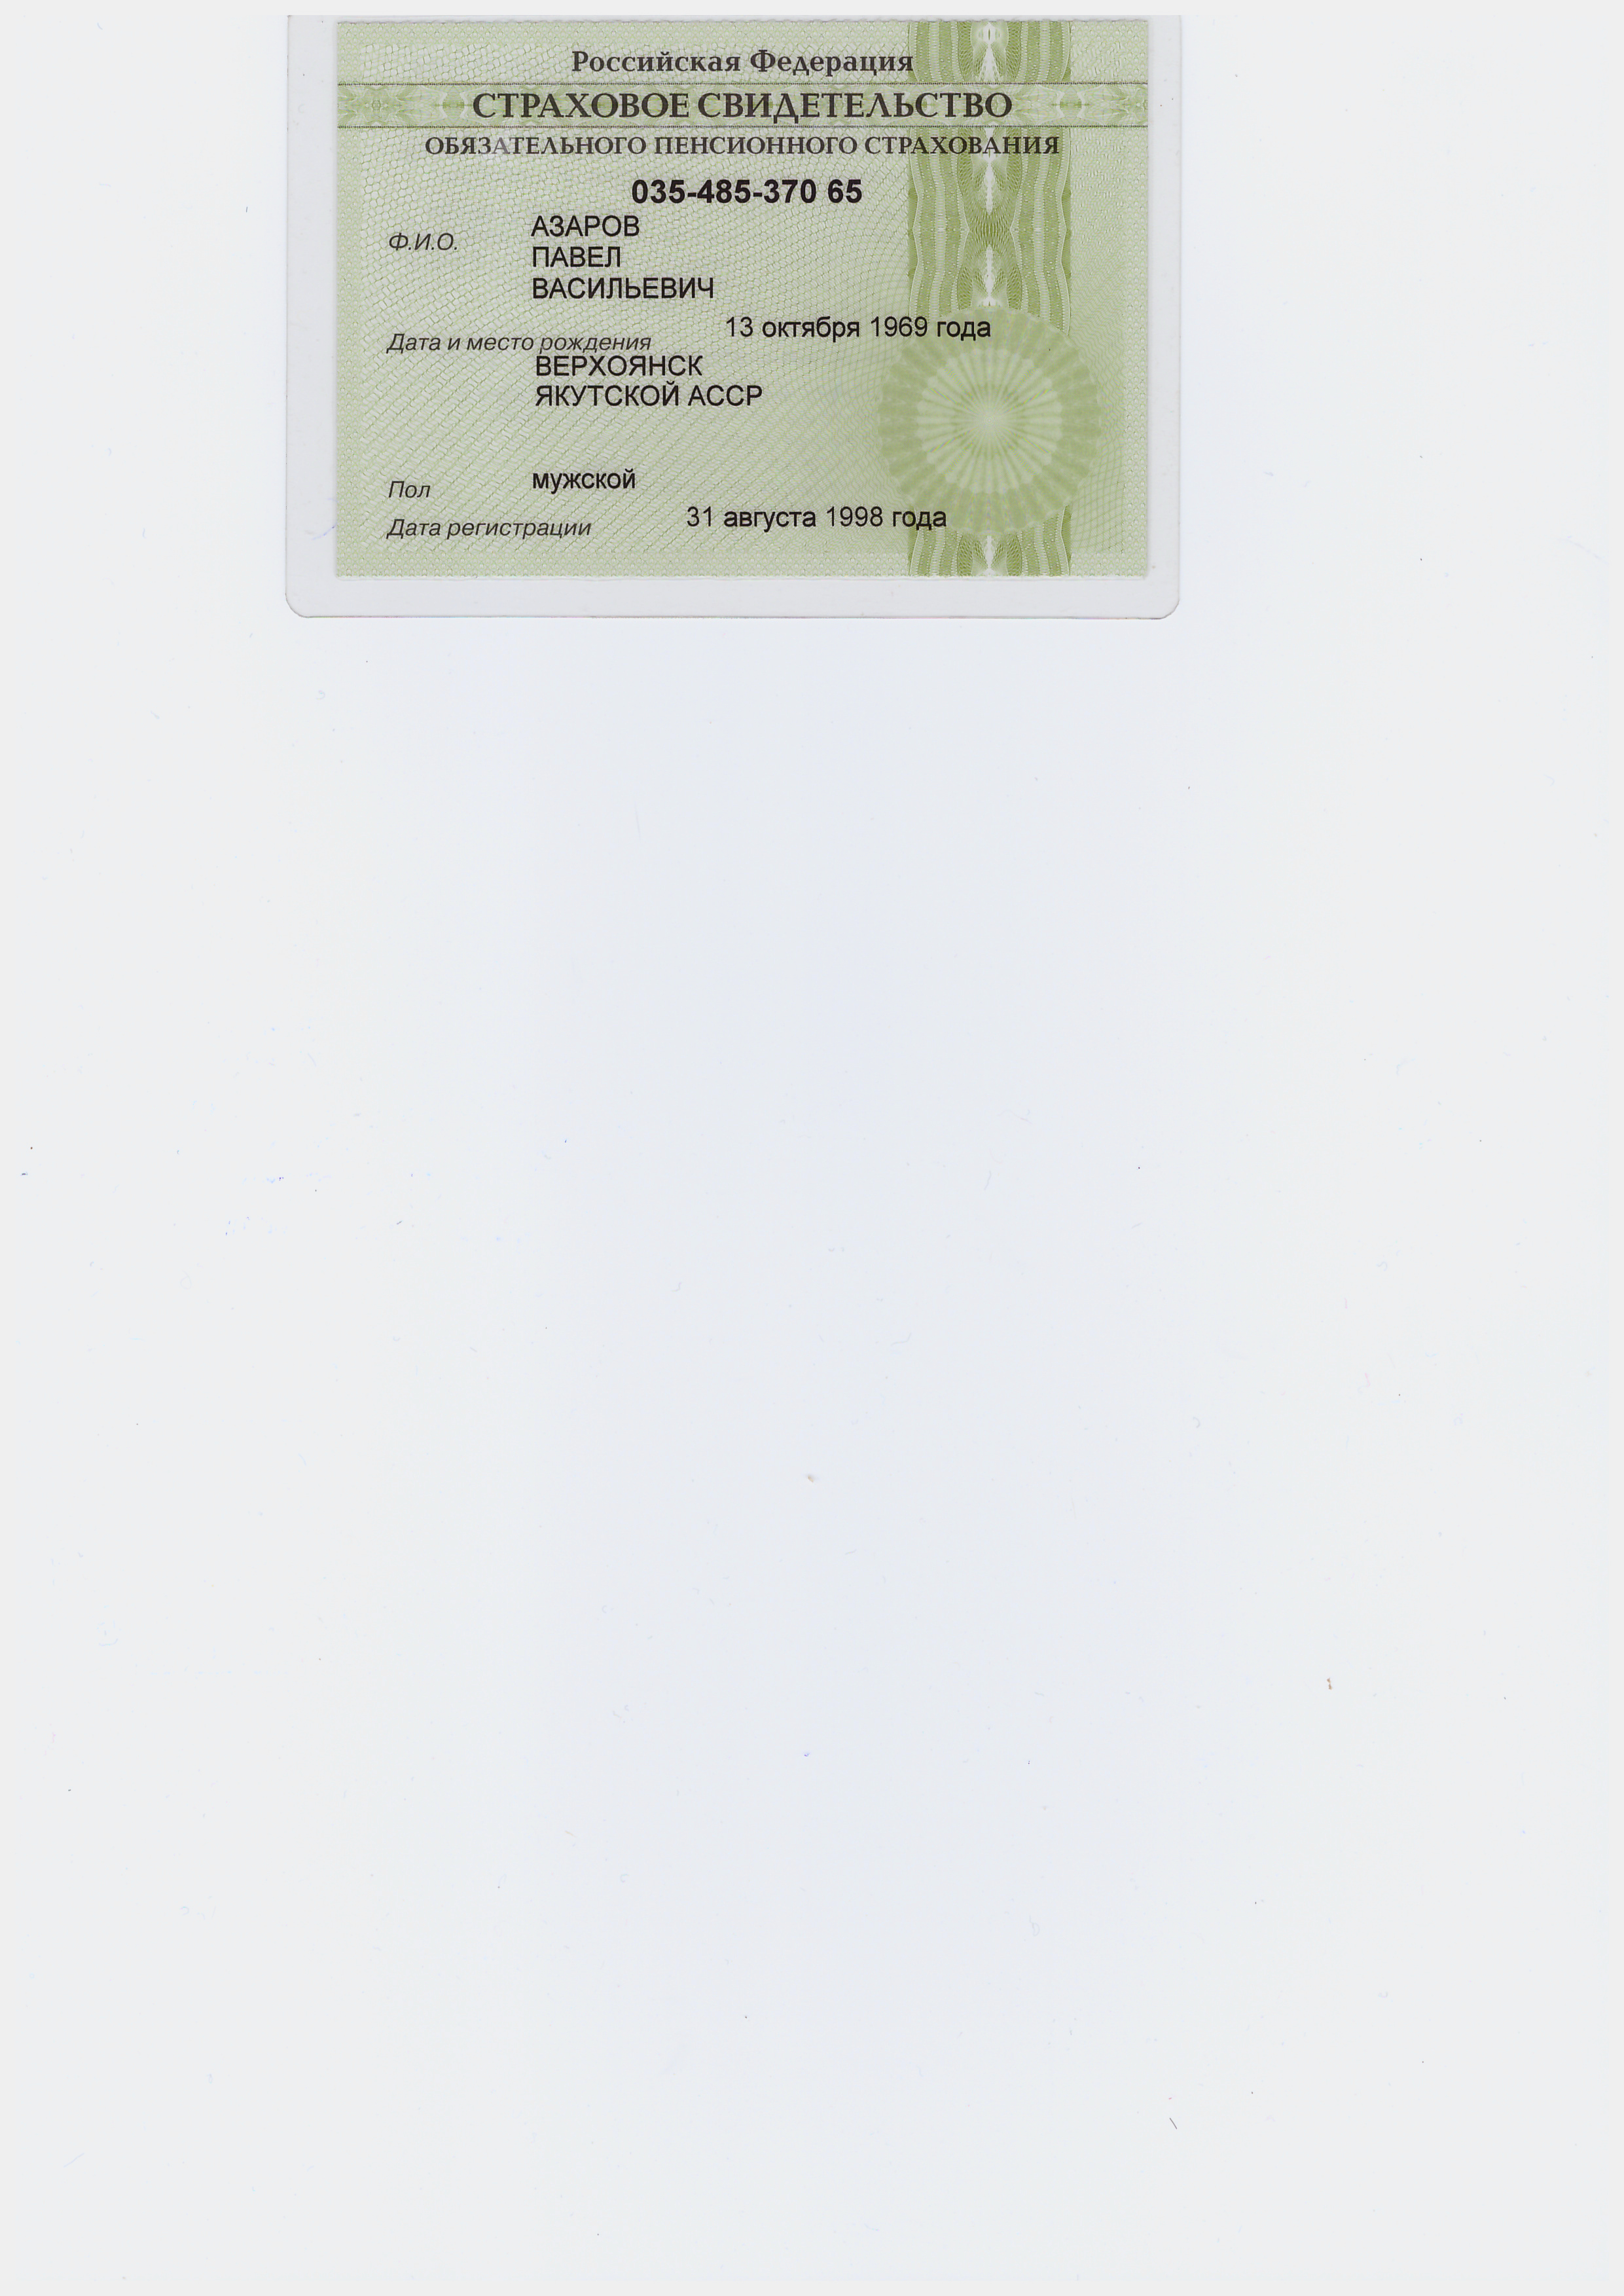text: (531, 350, 766, 415), (677, 501, 953, 534), (627, 172, 865, 211), (726, 311, 993, 345), (524, 272, 722, 306), (520, 462, 654, 496), (531, 207, 647, 243), (524, 239, 631, 271)
